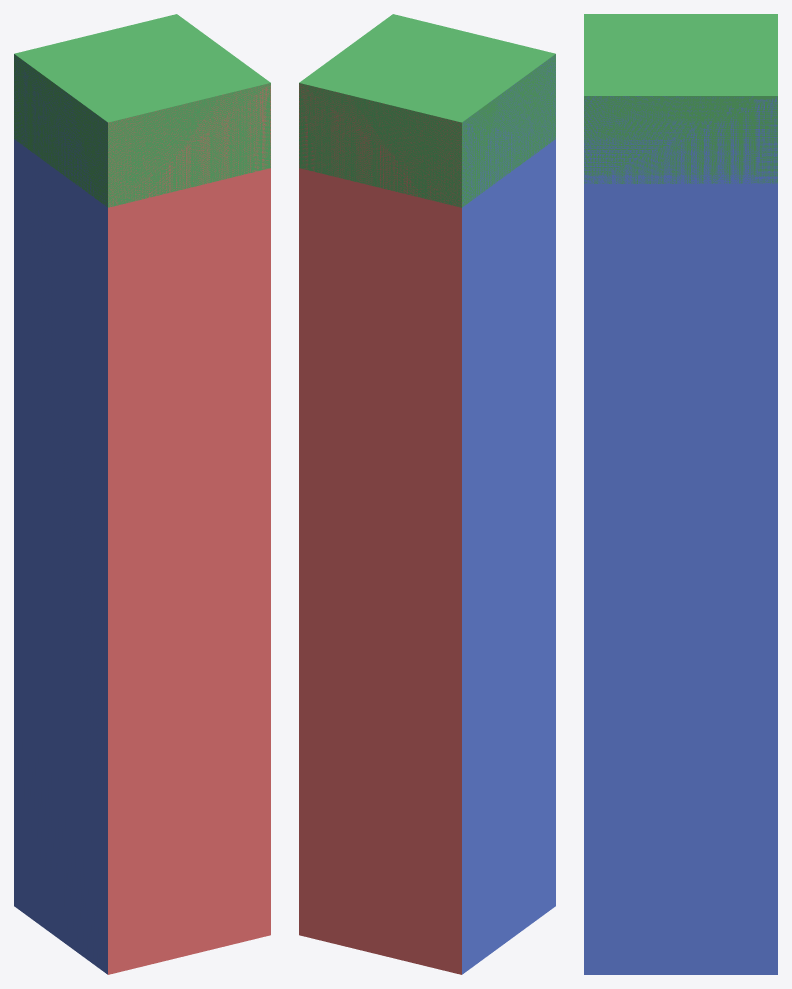
File: meas_negative.pipe_length_4_0.dae
3 renders of one model, left to right at view 1: azimuth 30°, elevation 25°; view 2: azimuth 150°, elevation 25°; view 3: azimuth 270°, elevation 25°, orthographic. The views are drawn at different scales.
Visible parts, largest first — view 1: ZXO (×2), ZXX (×2), Y (×3); view 2: ZXO (×2), ZXX (×2), Y (×3); view 3: ZXO, ZXX, Y (×2).
Part boxes in pixels (left/top/right/bottom): ZXO (×2): left=14, top=54, right=270, bottom=804; ZXX (×2): left=14, top=736, right=270, bottom=974; Y (×3): left=14, top=14, right=270, bottom=207; ZXO (×2): left=299, top=55, right=555, bottom=804; ZXX (×2): left=299, top=736, right=555, bottom=974; Y (×3): left=299, top=14, right=555, bottom=207; ZXO: left=584, top=96, right=777, bottom=799; ZXX: left=584, top=799, right=777, bottom=974; Y (×2): left=584, top=14, right=777, bottom=183.
Size of the model in its own units: 1 by 1 by 5.
